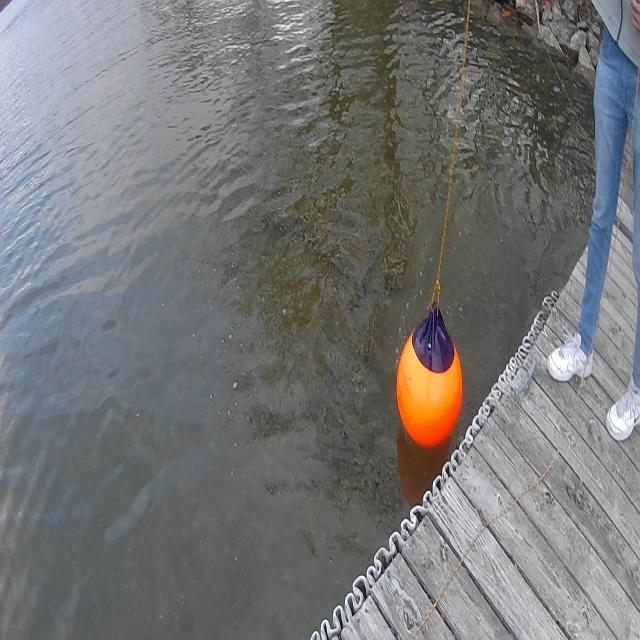Buoy: (392, 295, 468, 454)
